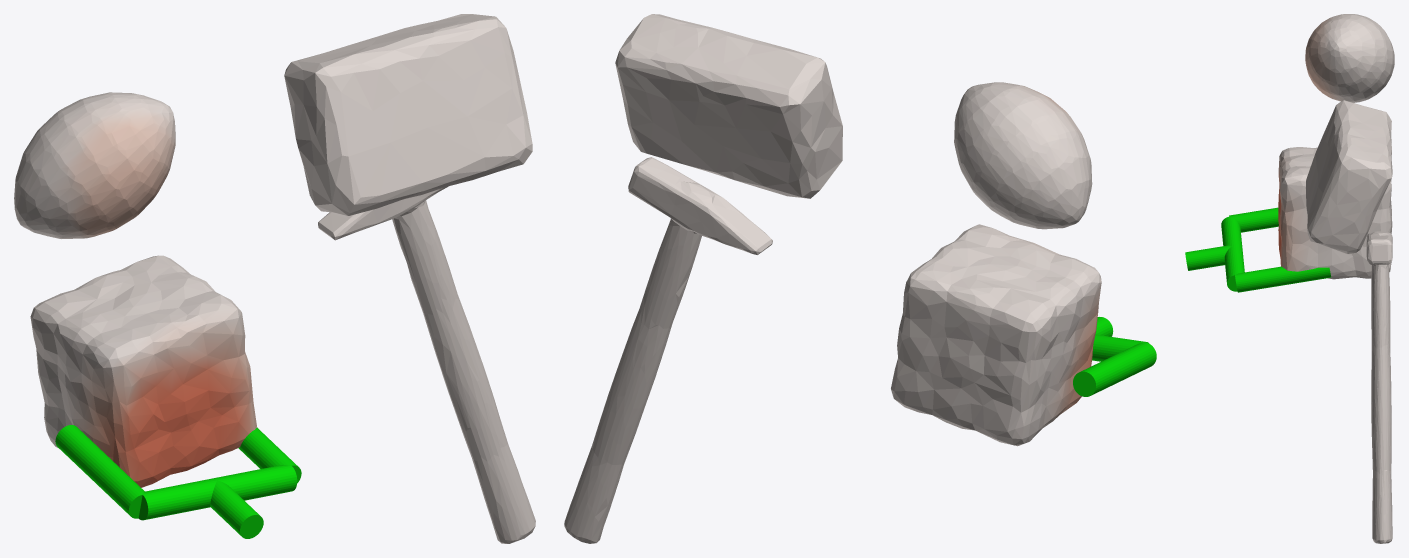
File: round_000_trial_001.obj
3 renders of one model, left to right at view 1: azimuth 30°, elevation 25°; view 2: azimuth 150°, elevation 25°; view 3: azimuth 270°, elevation 25°, orthographic. The views are drawn at different scales.
Parts seen in each view (by area): view 1: geometry_0, geometry_1; view 2: geometry_0, geometry_1; view 3: geometry_0, geometry_1.
Boxes of the visible parts, x1,y1,x2,y2 form: geometry_0: (14, 14, 535, 543); geometry_1: (55, 425, 301, 538); geometry_0: (564, 14, 1101, 543); geometry_1: (1073, 317, 1156, 396); geometry_0: (1278, 14, 1394, 543); geometry_1: (1185, 207, 1331, 292).
Size of the model in its own units: 0.2207 by 0.2235 by 0.1105.
